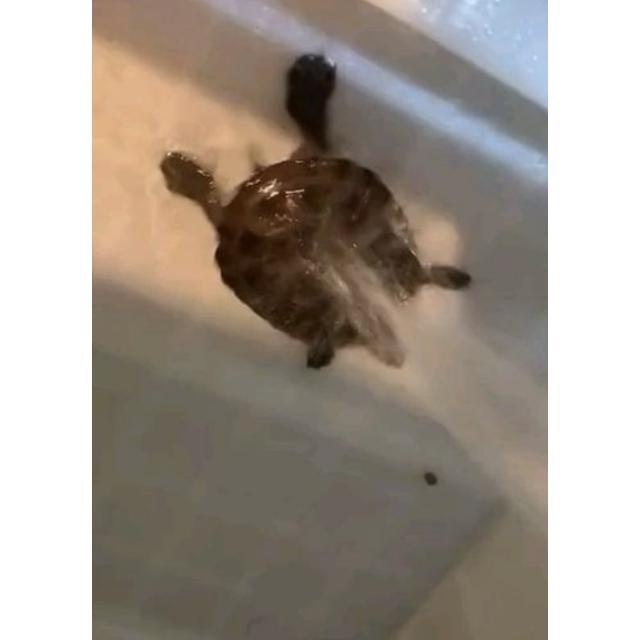turtle: (157, 51, 475, 375)
